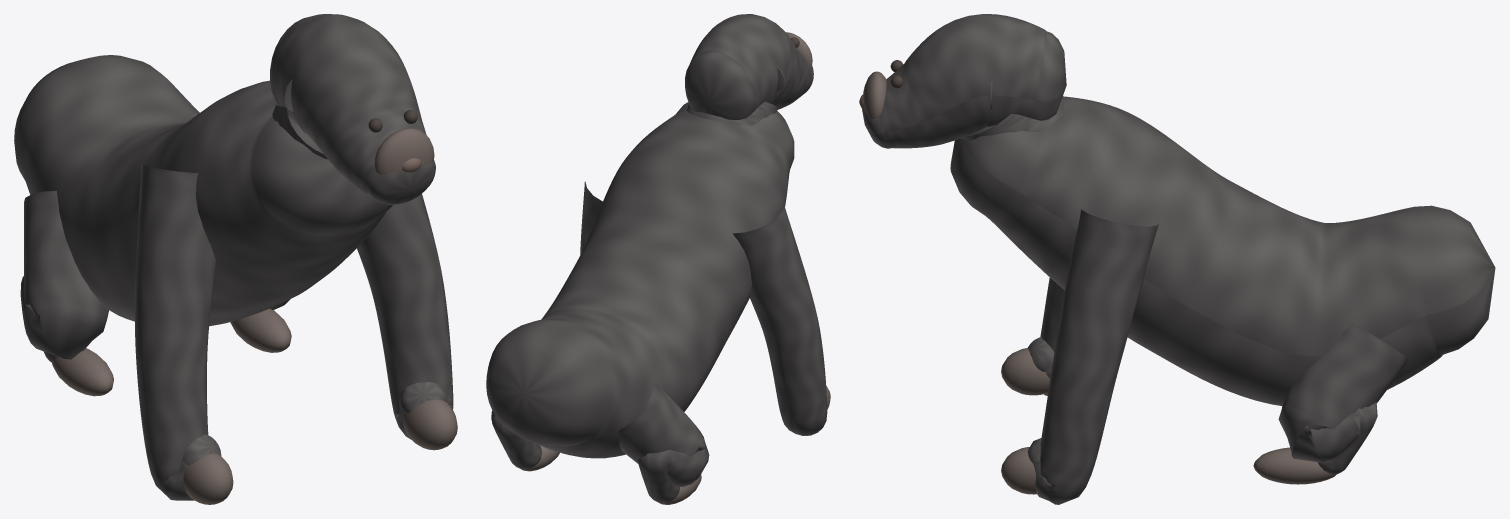
The model's file is other-chimpanzee.glb.
The picture shows the model from 3 angles, left to right: view 1: azimuth 30°, elevation 25°; view 2: azimuth 150°, elevation 25°; view 3: azimuth 270°, elevation 25°; orthographic projection. The views are drawn at different scales.
Parts seen in each view (by area): view 1: chimpanzee; view 2: chimpanzee; view 3: chimpanzee.
Boxes of the visible parts, x1,y1,x2,y2 form: chimpanzee: [14, 14, 457, 504]; chimpanzee: [486, 14, 830, 504]; chimpanzee: [859, 14, 1495, 504].
Size of the model in its own units: 0.772 by 1.17 by 1.56.
4 materials, 2 textured.
